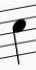HC: (9, 6, 28, 67)
